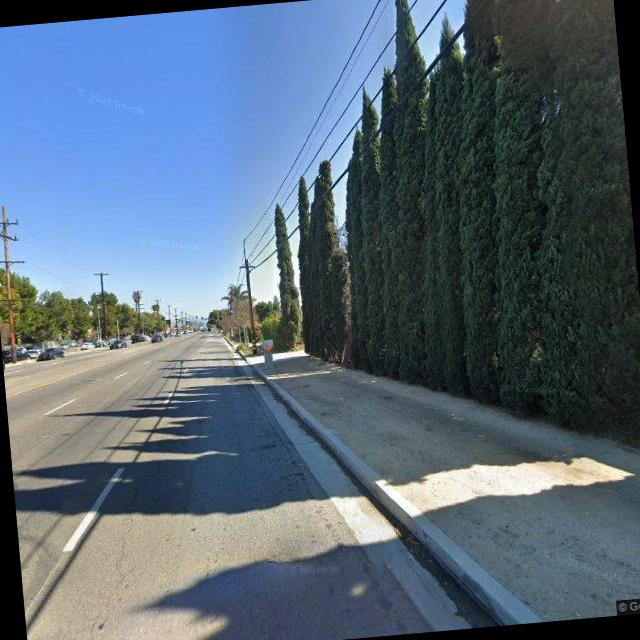pothole: (94, 478, 150, 620)
